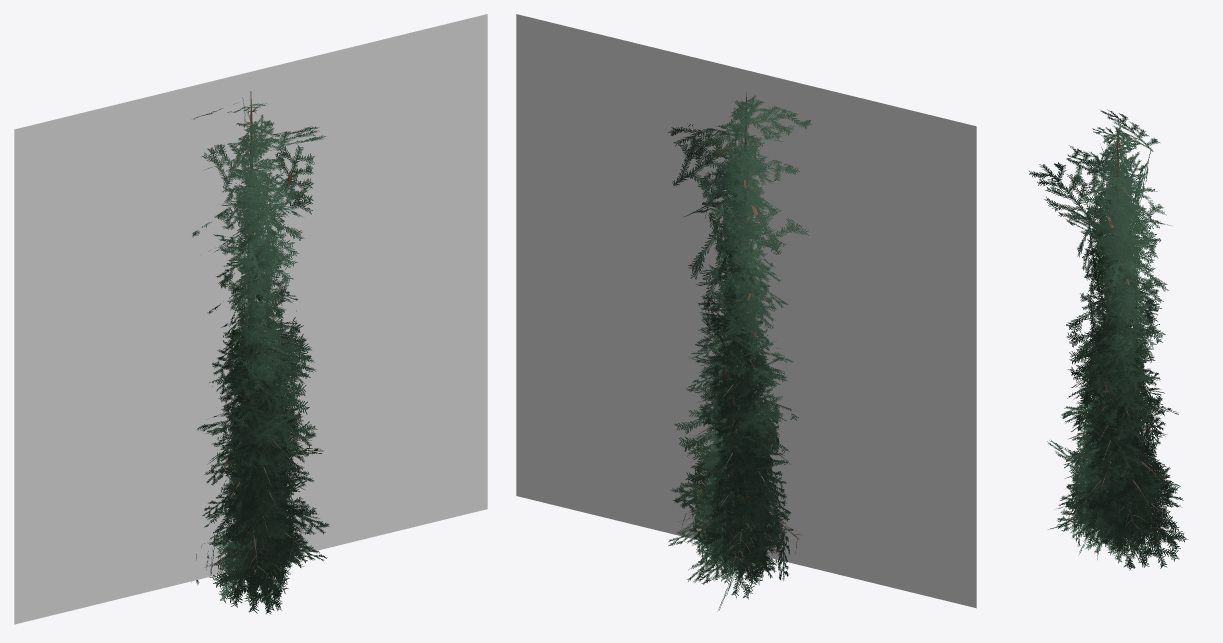
File: epicea_adulte_c.fbx
The picture shows the model from 3 angles, left to right: view 1: azimuth 30°, elevation 25°; view 2: azimuth 150°, elevation 25°; view 3: azimuth 270°, elevation 25°; orthographic projection. The views are drawn at different scales.
Parts seen in each view (by area): view 1: epicea_adulte_c_LOD3, epicea_adulte_c_LOD2, epicea_adulte_c_LOD1; view 2: epicea_adulte_c_LOD3, epicea_adulte_c_LOD1, epicea_adulte_c_LOD2; view 3: epicea_adulte_c_LOD2, epicea_adulte_c_LOD1.
Part boxes in pixels (x1,y1,x2,y2): epicea_adulte_c_LOD3: (14,14,487,624); epicea_adulte_c_LOD2: (192,91,325,613); epicea_adulte_c_LOD1: (191,91,329,602); epicea_adulte_c_LOD3: (516,14,976,608); epicea_adulte_c_LOD1: (668,92,802,584); epicea_adulte_c_LOD2: (668,96,811,611); epicea_adulte_c_LOD2: (1029,109,1188,570); epicea_adulte_c_LOD1: (1057,126,1180,555).
Size of what is drawn, in the model's own units: 27.77 by 30.81 by 12.21.
